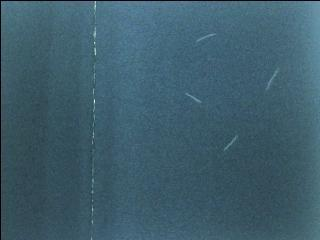crack: (81, 1, 108, 240)
scratch: (215, 128, 245, 155), (260, 62, 282, 94), (180, 88, 208, 106), (191, 30, 223, 45)
